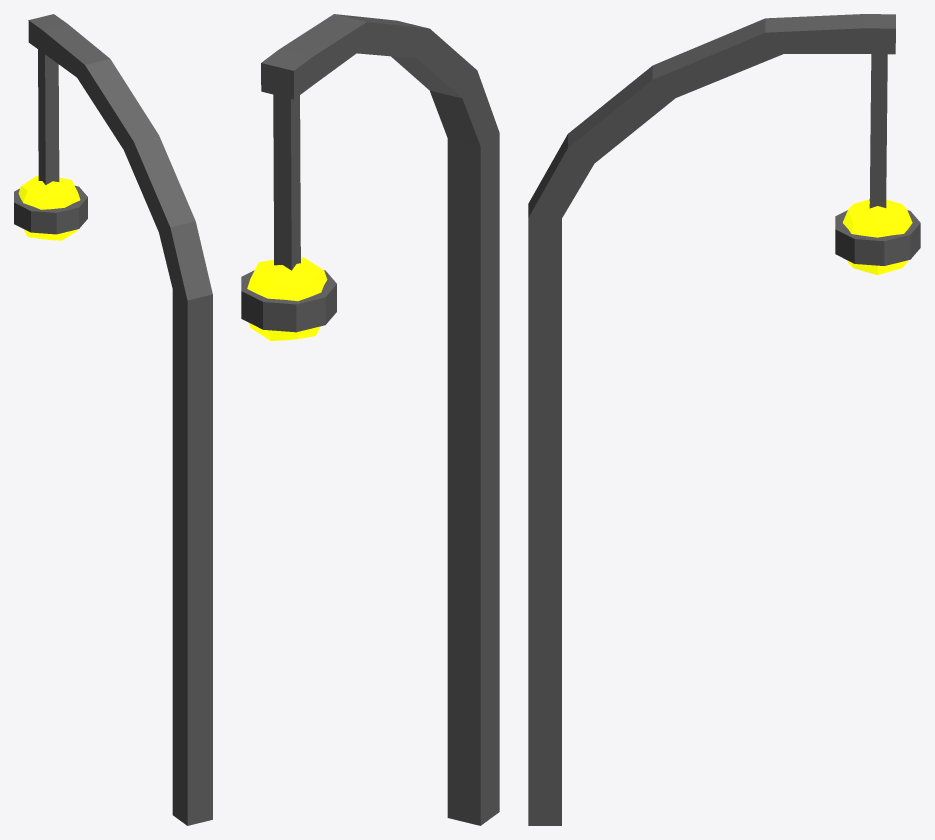
The model's file is Lantern.fbx.
3 views of the same model, side by side, from view 1: azimuth 30°, elevation 25°; view 2: azimuth 150°, elevation 25°; view 3: azimuth 270°, elevation 25° (orthographic). The views are drawn at different scales.
Parts seen in each view (by area): view 1: Cube.001; view 2: Cube.001; view 3: Cube.001.
Part boxes in pixels (x1,y1,x2,y2): Cube.001: [14, 14, 212, 825]; Cube.001: [241, 14, 499, 825]; Cube.001: [528, 14, 920, 825].
Bounding box in the file's own units: 136 × 1378 × 615.
